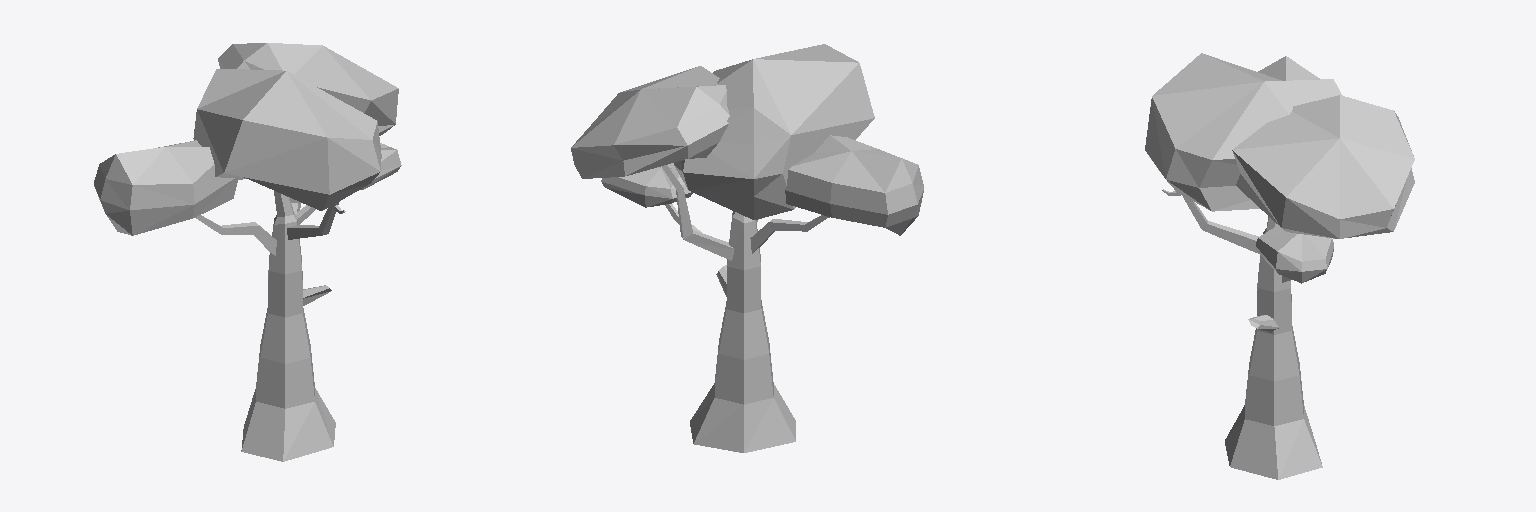
The model's file is tree1.obj.
3 renders of one model, left to right at view 1: azimuth 30°, elevation 25°; view 2: azimuth 150°, elevation 25°; view 3: azimuth 270°, elevation 25°, orthographic.
Parts seen in each view (by area): view 1: Tree_temp_climate_001_Mesh; view 2: Tree_temp_climate_001_Mesh; view 3: Tree_temp_climate_001_Mesh.
Part boxes in pixels (bbox=[...]): Tree_temp_climate_001_Mesh: bbox=[94, 43, 401, 461]; Tree_temp_climate_001_Mesh: bbox=[571, 44, 923, 452]; Tree_temp_climate_001_Mesh: bbox=[1145, 53, 1414, 479].
Bounding box in the file's own units: 4.53 × 5.26 × 3.47.